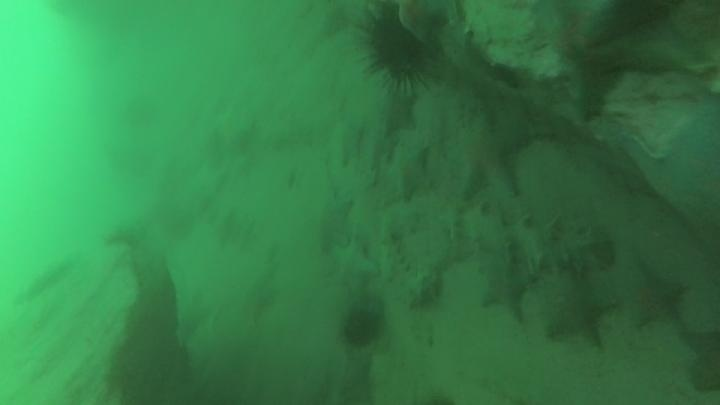echinus: (358, 7, 442, 94), (338, 304, 386, 350)
holothurian: (501, 211, 615, 278), (378, 216, 439, 309)
starfish: (444, 111, 531, 204), (539, 271, 619, 349), (621, 261, 688, 331), (476, 254, 537, 325), (326, 238, 380, 295), (385, 142, 434, 201), (395, 1, 457, 45), (314, 196, 356, 256), (378, 88, 421, 138)
